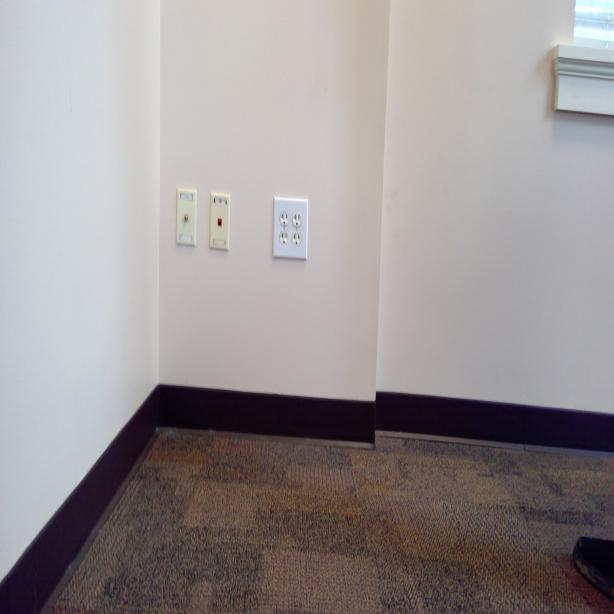typeb: (280, 211, 290, 226), (294, 212, 301, 228), (280, 231, 288, 245), (293, 231, 301, 245)
